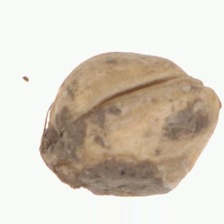L1: (38, 120, 84, 190), (175, 60, 223, 110)
L2: (39, 52, 222, 197)
